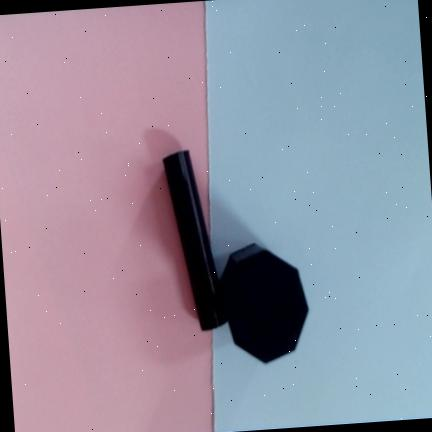Cilindro: (164, 150, 226, 329)
Prisma_hexagonal: (221, 243, 308, 362)
